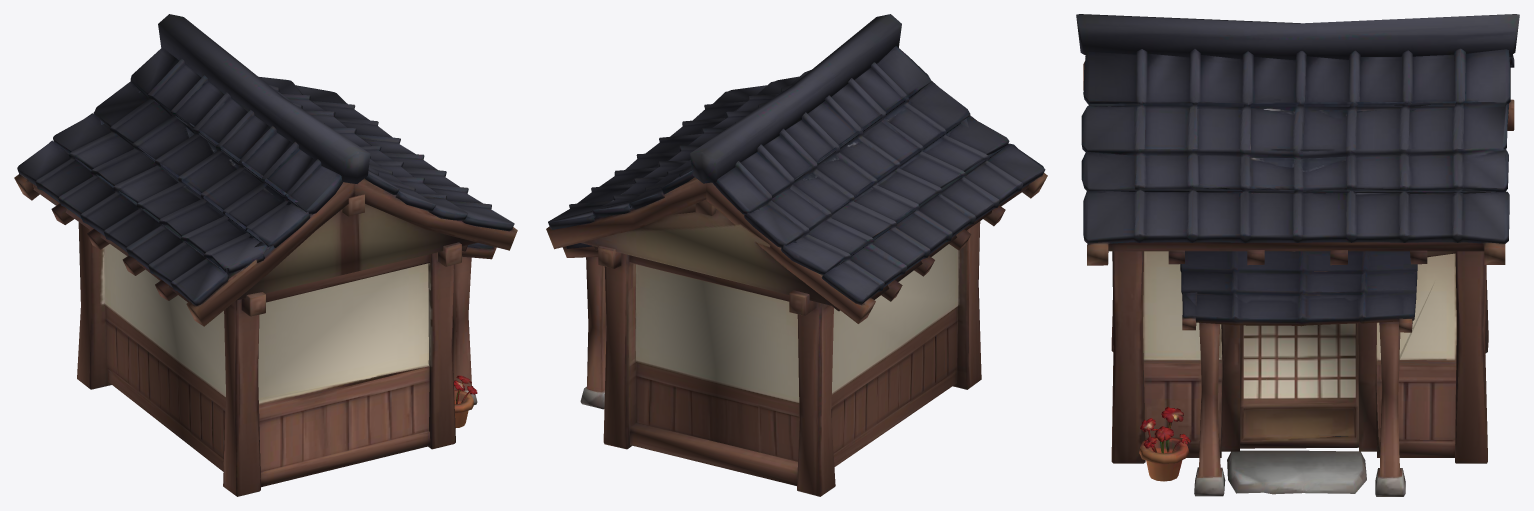
The model's file is village_house.glb.
The picture shows the model from 3 angles, left to right: view 1: azimuth 30°, elevation 25°; view 2: azimuth 150°, elevation 25°; view 3: azimuth 270°, elevation 25°; orthographic projection. The views are drawn at different scales.
Parts seen in each view (by area): view 1: tripo_node_67047e86-4cbc-4399-9fb8-d94a9de1adfa; view 2: tripo_node_67047e86-4cbc-4399-9fb8-d94a9de1adfa; view 3: tripo_node_67047e86-4cbc-4399-9fb8-d94a9de1adfa.
Part boxes in pixels (<box>): tripo_node_67047e86-4cbc-4399-9fb8-d94a9de1adfa: <box>14,14,517,496</box>; tripo_node_67047e86-4cbc-4399-9fb8-d94a9de1adfa: <box>546,14,1047,496</box>; tripo_node_67047e86-4cbc-4399-9fb8-d94a9de1adfa: <box>1076,14,1519,496</box>.
Size of the model in its own units: 0.998 by 0.9082 by 0.9473.
1 material, 1 textured.
